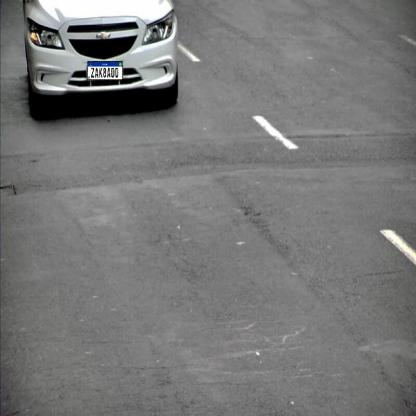PlacaM: (87, 61, 123, 80)
